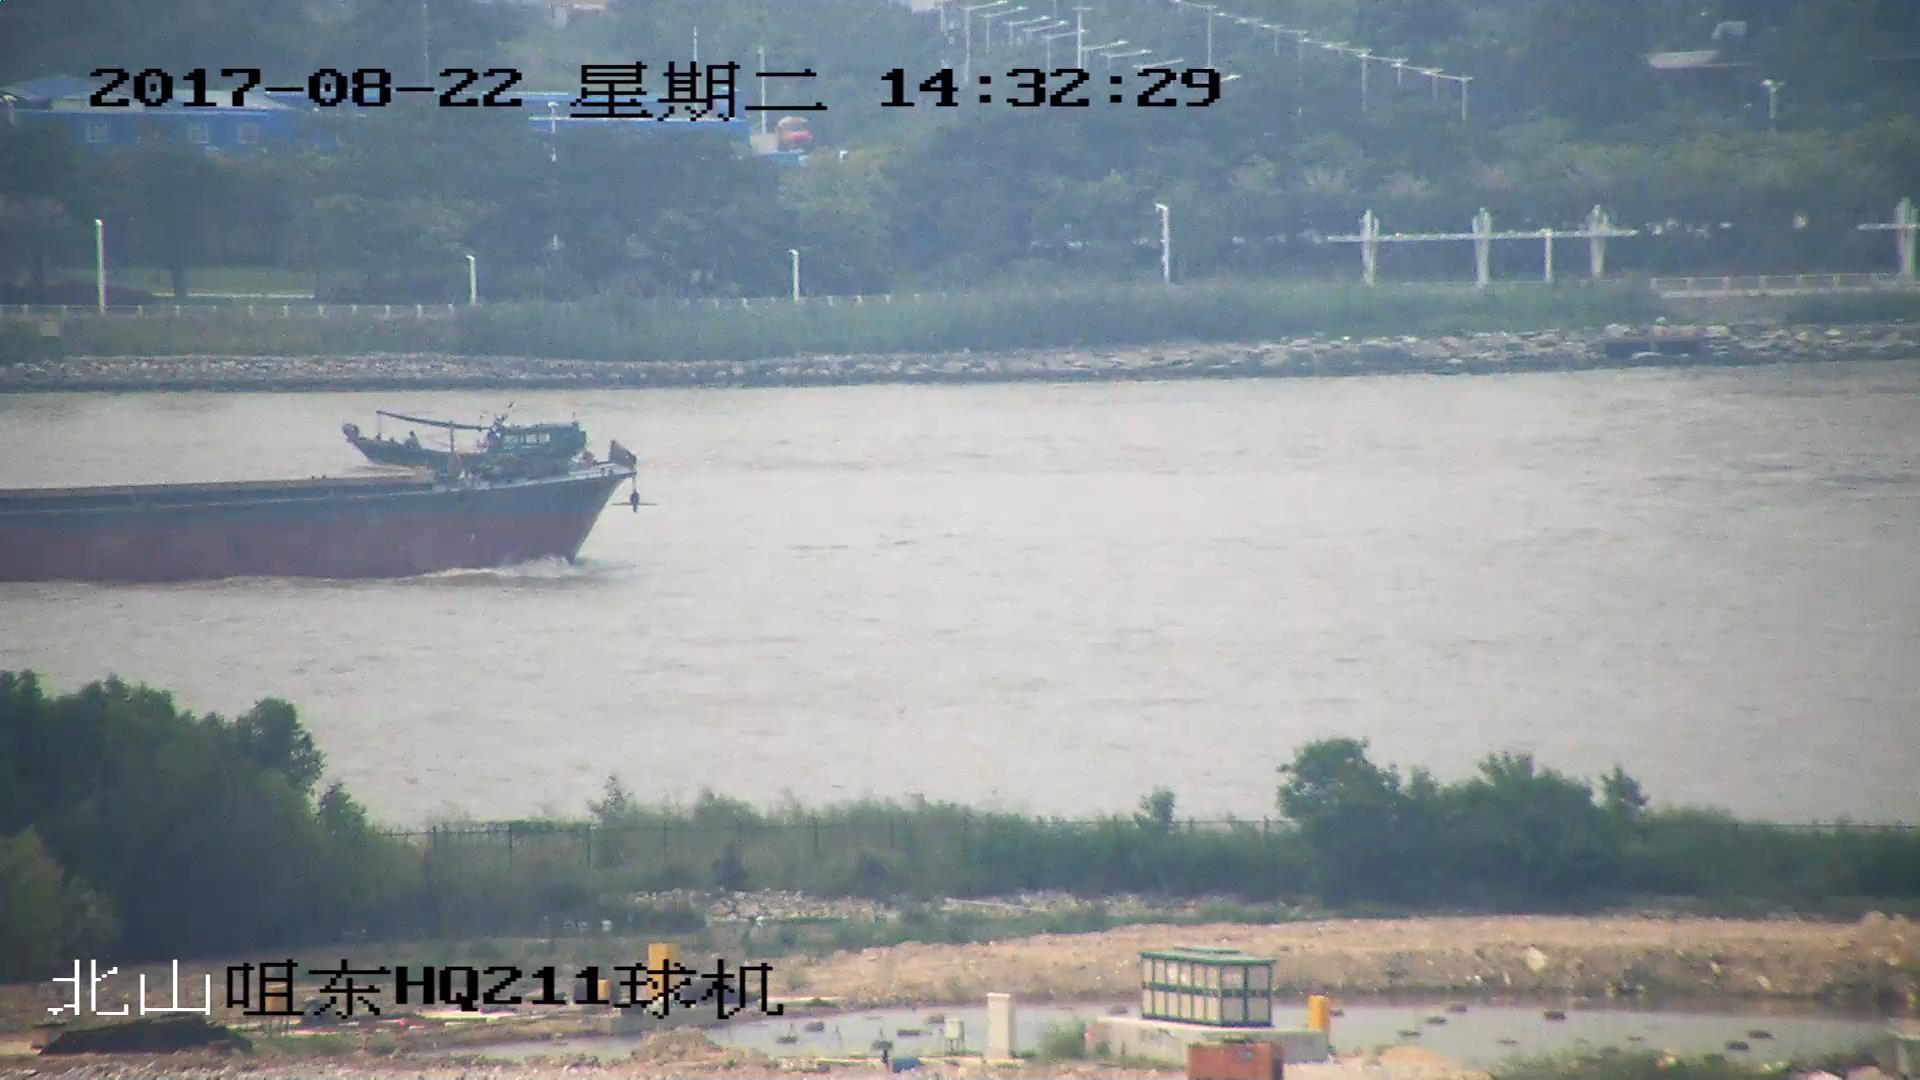Ship: (3, 443, 644, 589), (343, 406, 589, 475)
